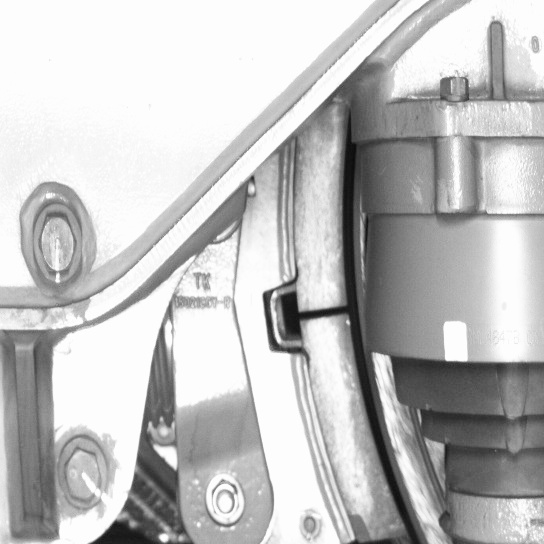KnifeSwitch: (288, 139, 429, 542)
